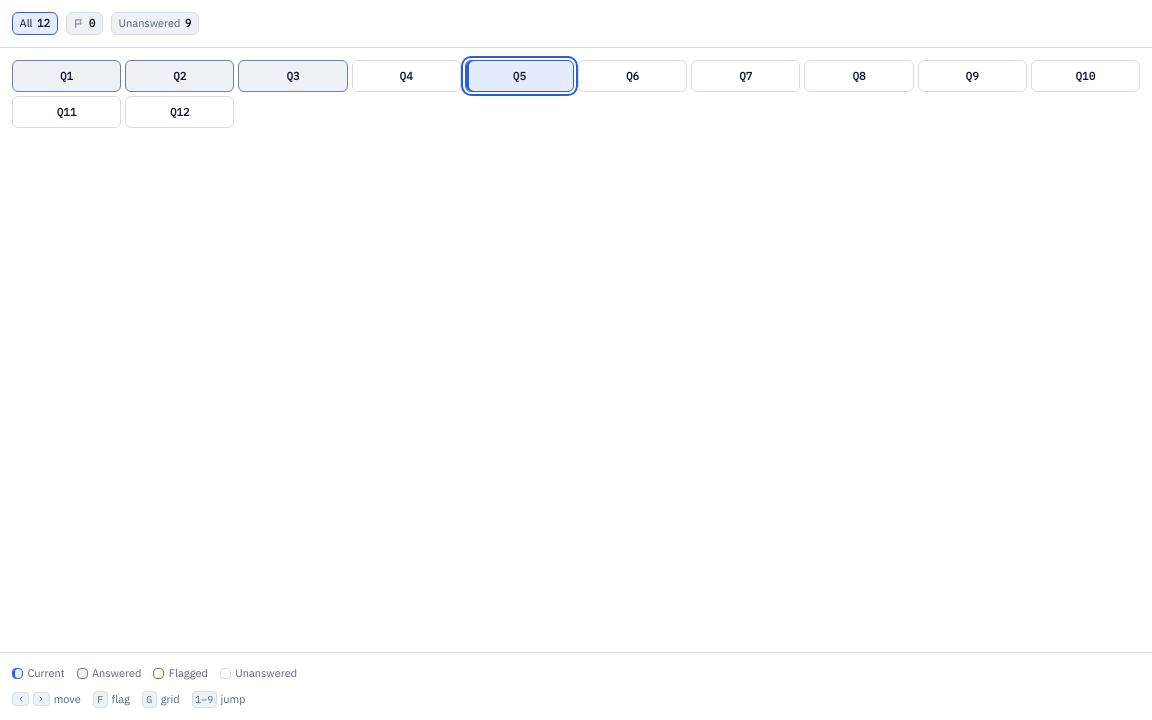
Test: Navigator filters › filtering to unanswered drops the answered tiles
Click the button "Unanswered 9".
click(155, 23)  # box [111,12,199,35]
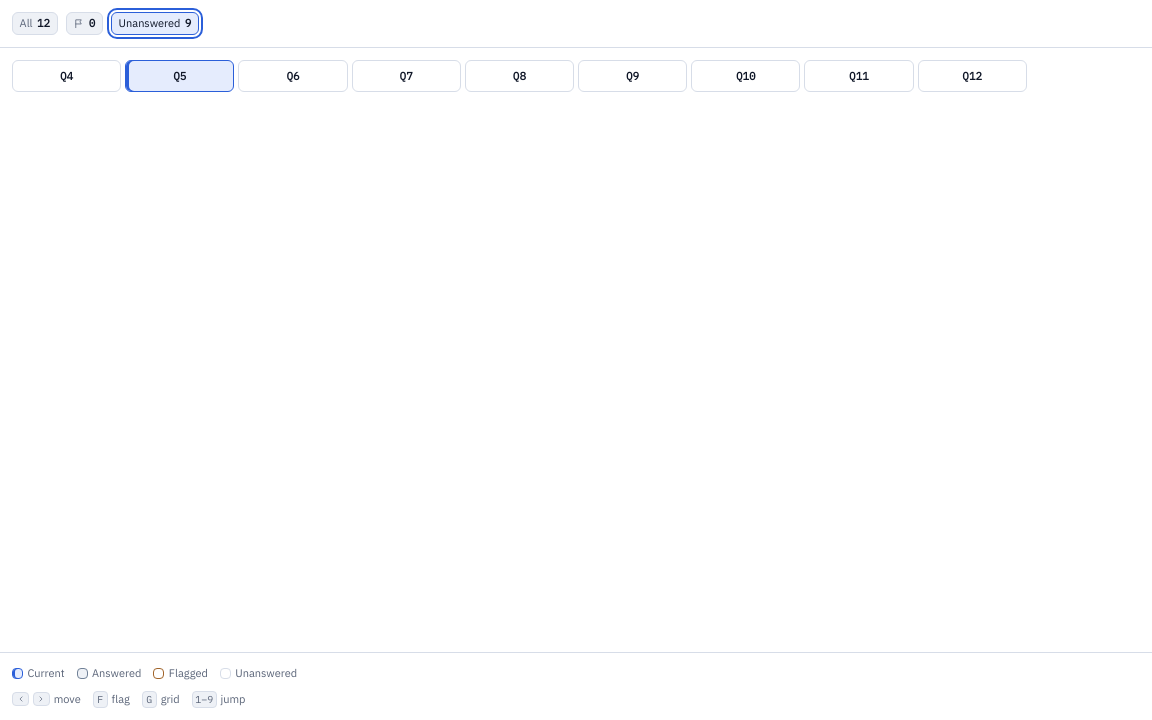
Check: the number of buttons "Q4" is 9
